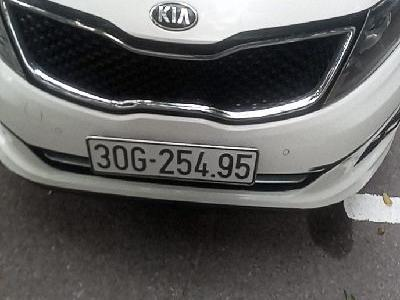number: (86, 134, 256, 188)
